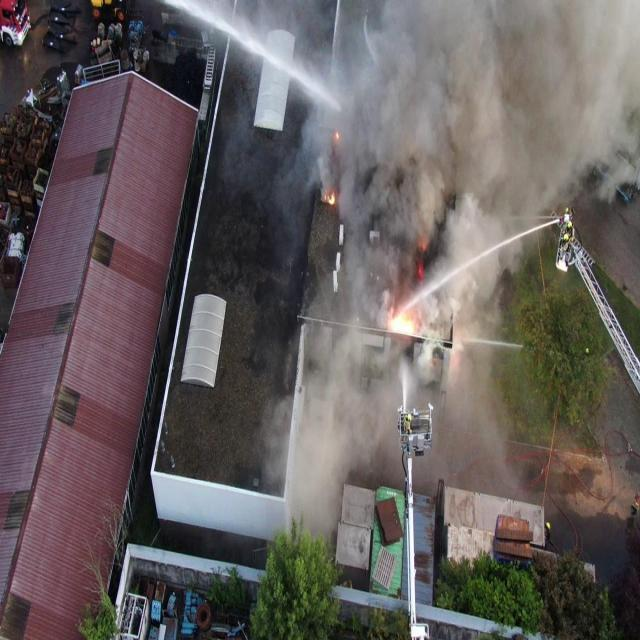Fire: (392, 312, 414, 335), (324, 192, 336, 206), (336, 132, 339, 138)
Smoke: (258, 0, 640, 542)
